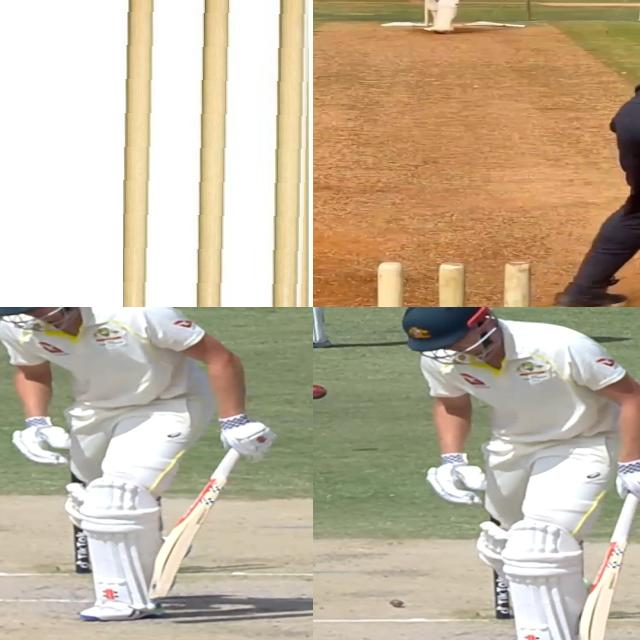Cricket ball: (313, 384, 327, 400)
Stumps: (122, 0, 313, 307), (374, 260, 529, 307)
